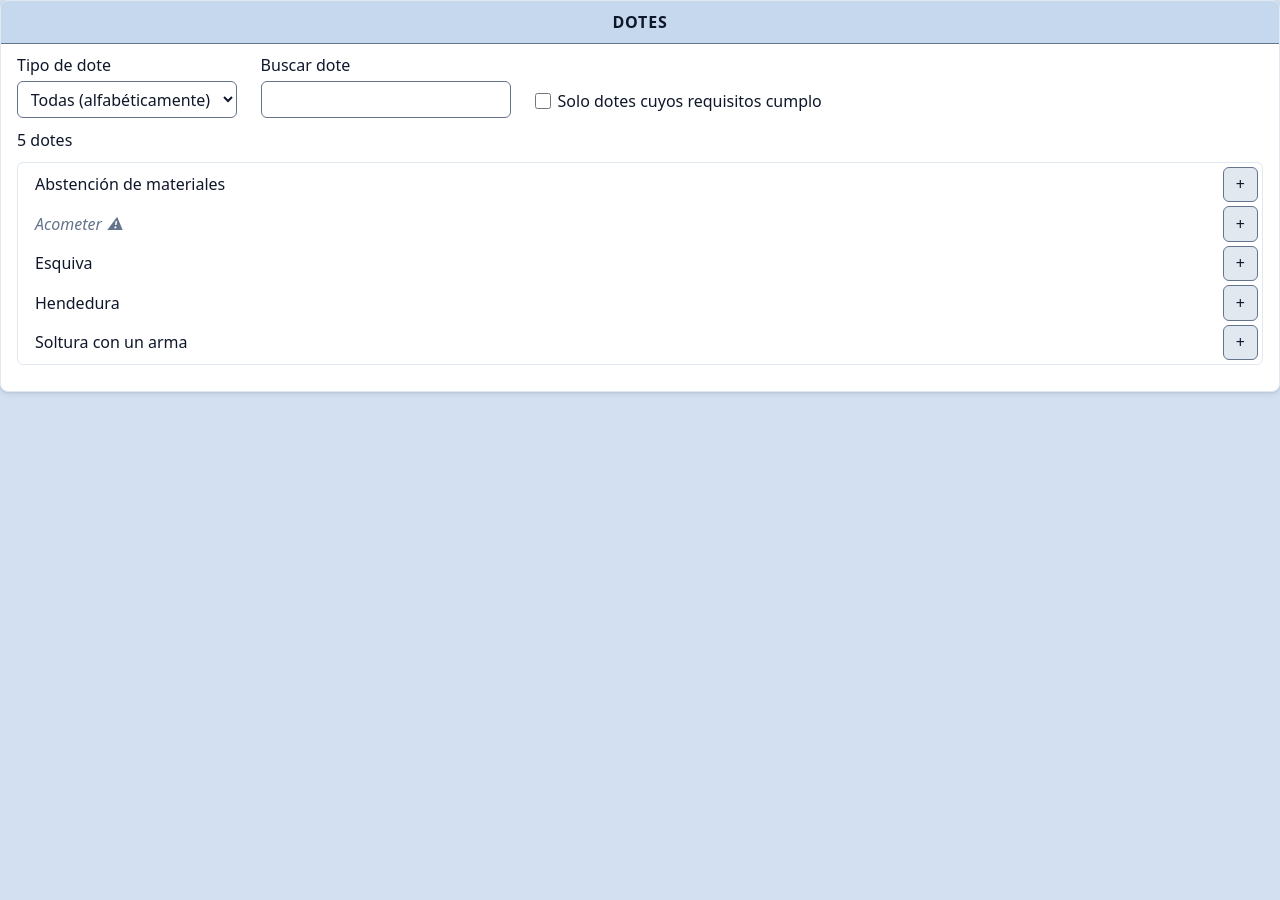
FeatsSection › opens a details dialog with the feat's information
The width and height of the screenshot is (1280, 900).
Click the button with aria-label "Ver detalles de Acometer". click: coordinates (68, 224)
box: [22,206,1215,242]
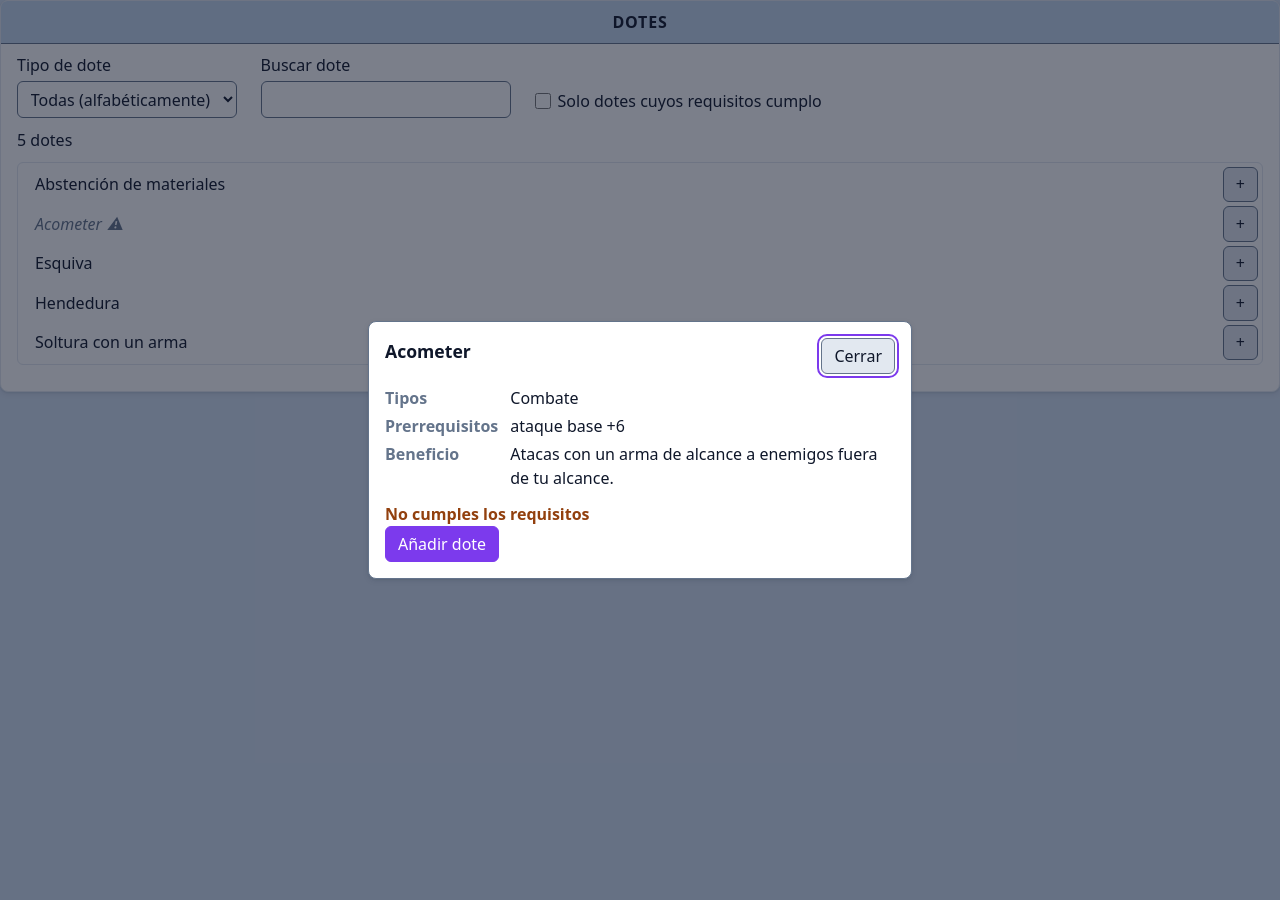
Expected: the text "ataque base +6" is shown, [510,415,625,437]
Expected: the text "arma de alcance" is shown, [510,443,878,489]
Expected: the text "No cumples los requisitos" is shown, [385,503,590,525]
Press Escape
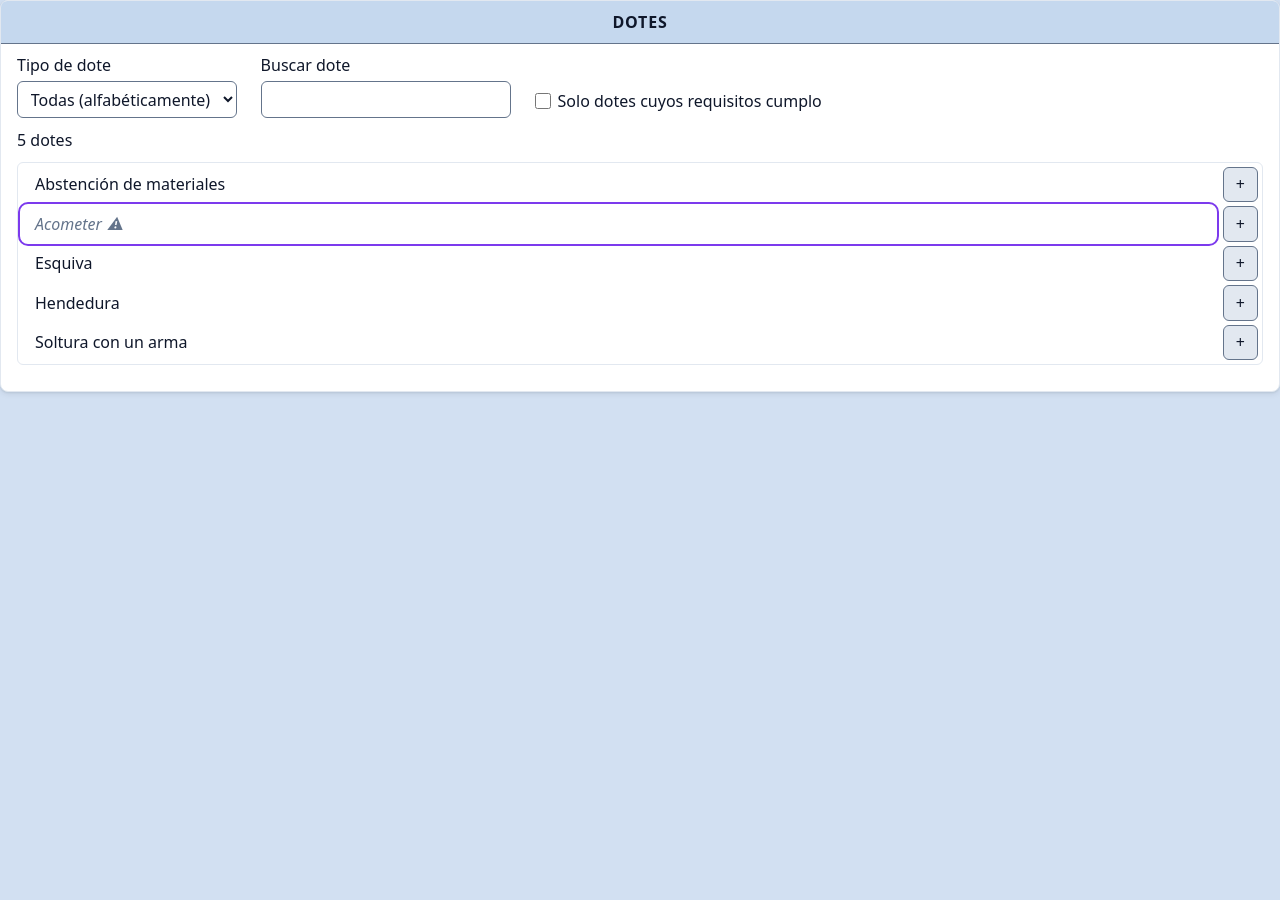
Expected: the dialog is gone
